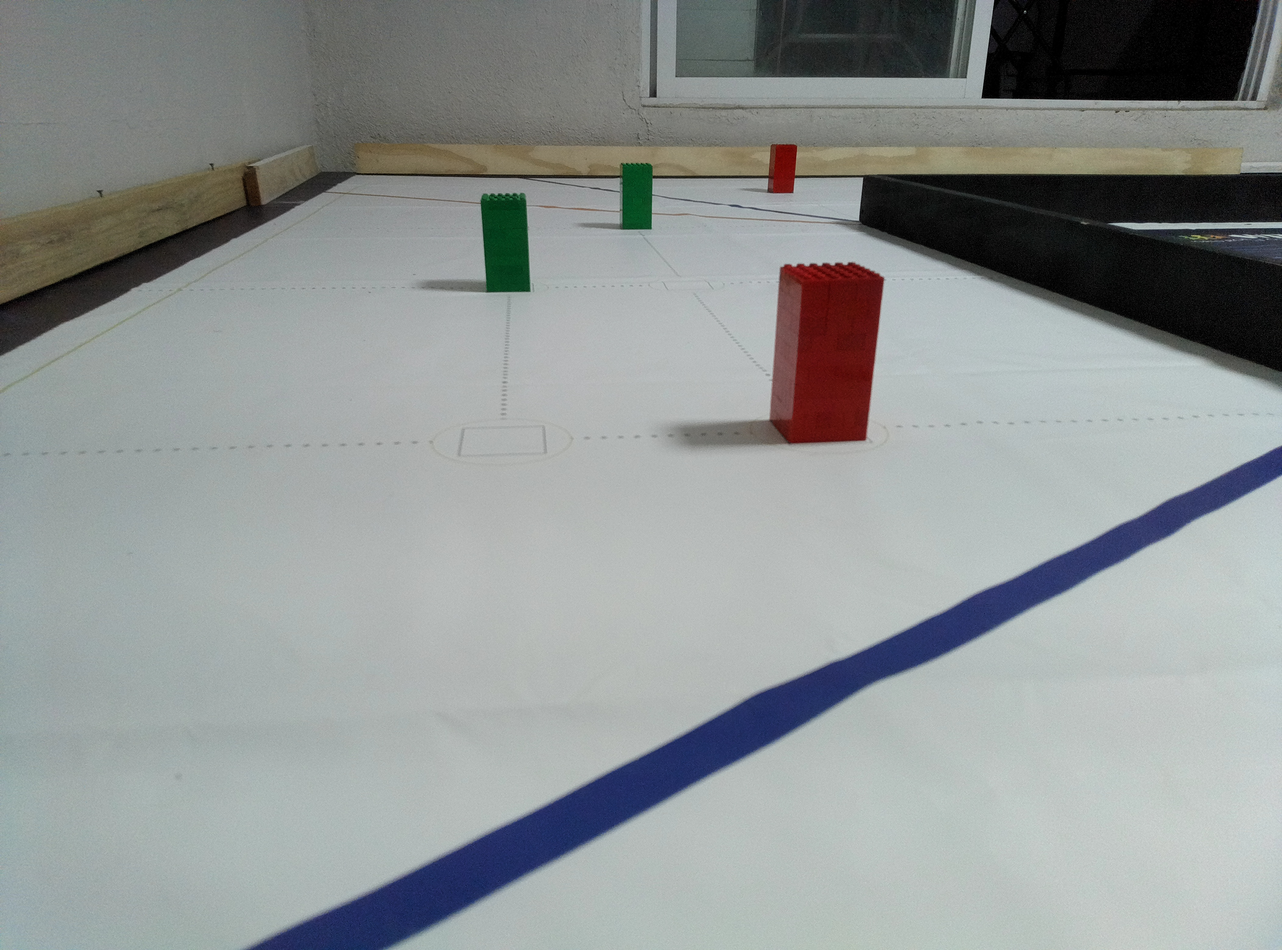greenbox: (480, 193, 532, 292), (619, 161, 653, 230)
redbox: (770, 260, 885, 444), (767, 144, 797, 193)
